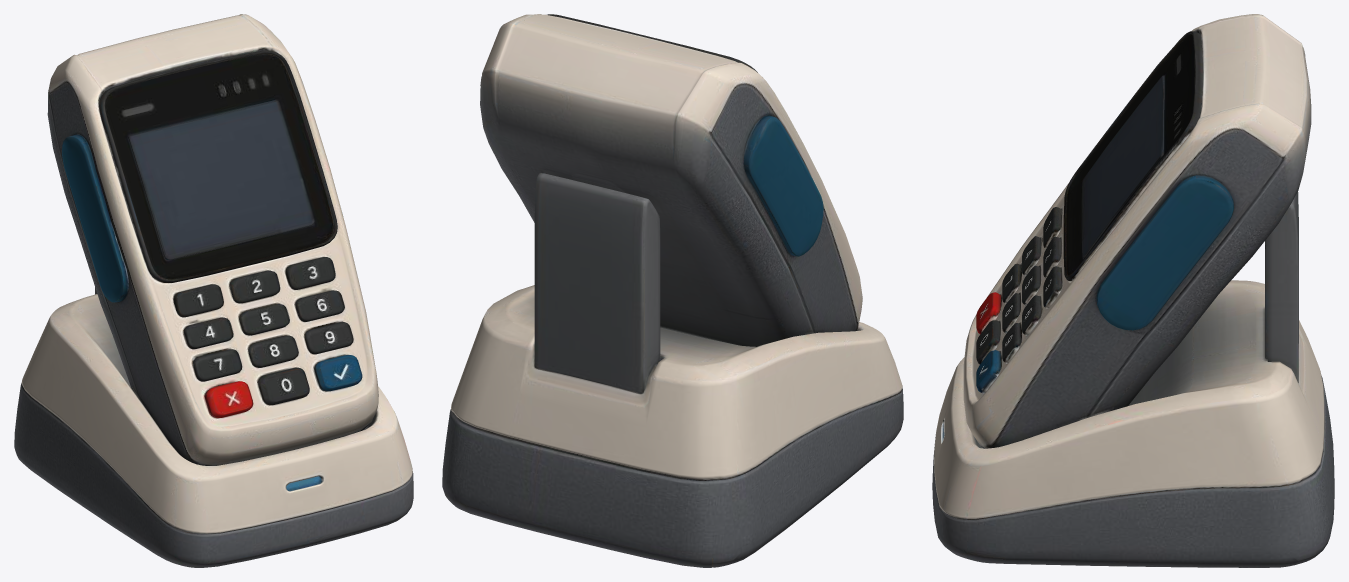
The model's file is payment_terminal_smart.glb.
3 views of the same model, side by side, from view 1: azimuth 30°, elevation 25°; view 2: azimuth 150°, elevation 25°; view 3: azimuth 270°, elevation 25° (orthographic). The views are drawn at different scales.
Visible parts, largest first — view 1: payment_terminal_smart; view 2: payment_terminal_smart; view 3: payment_terminal_smart.
Boxes of the visible parts, <box> form: payment_terminal_smart: <box>14,14,413,567</box>; payment_terminal_smart: <box>442,14,903,567</box>; payment_terminal_smart: <box>932,14,1334,567</box>.
Size of what is drawn, in the model's own units: 0.1089 by 0.16 by 0.1311.
Materials: 1 (1 with a texture image).
